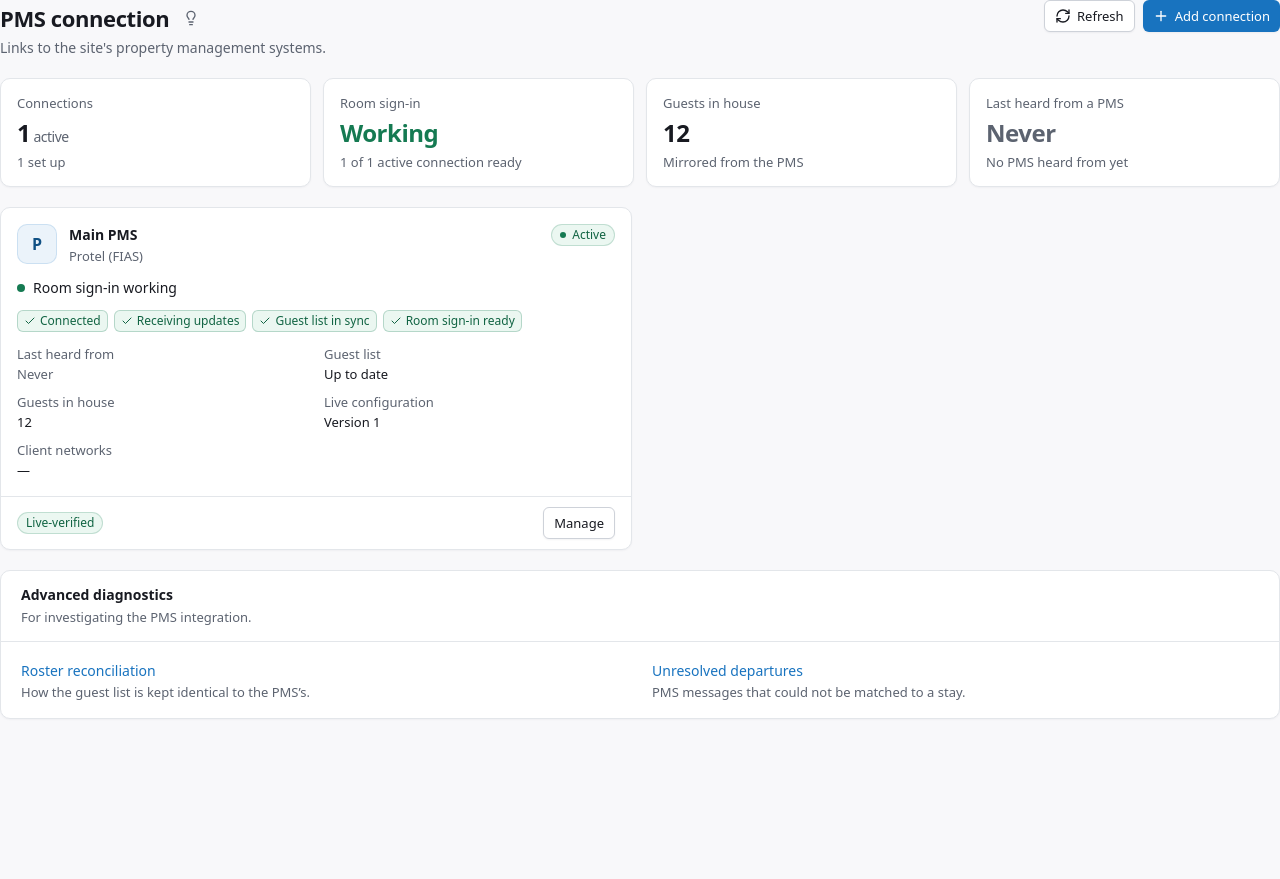
connection recovery is scoped to one interface › says when nobody has configured this connection, without pretending it is unset
The image size is (1280, 879).
Expected: the heading "Main PMS" is shown, x1=69 y1=225 x2=138 y2=245
Click the button "Manage": (579, 523) x1=543 y1=507 x2=615 y2=539
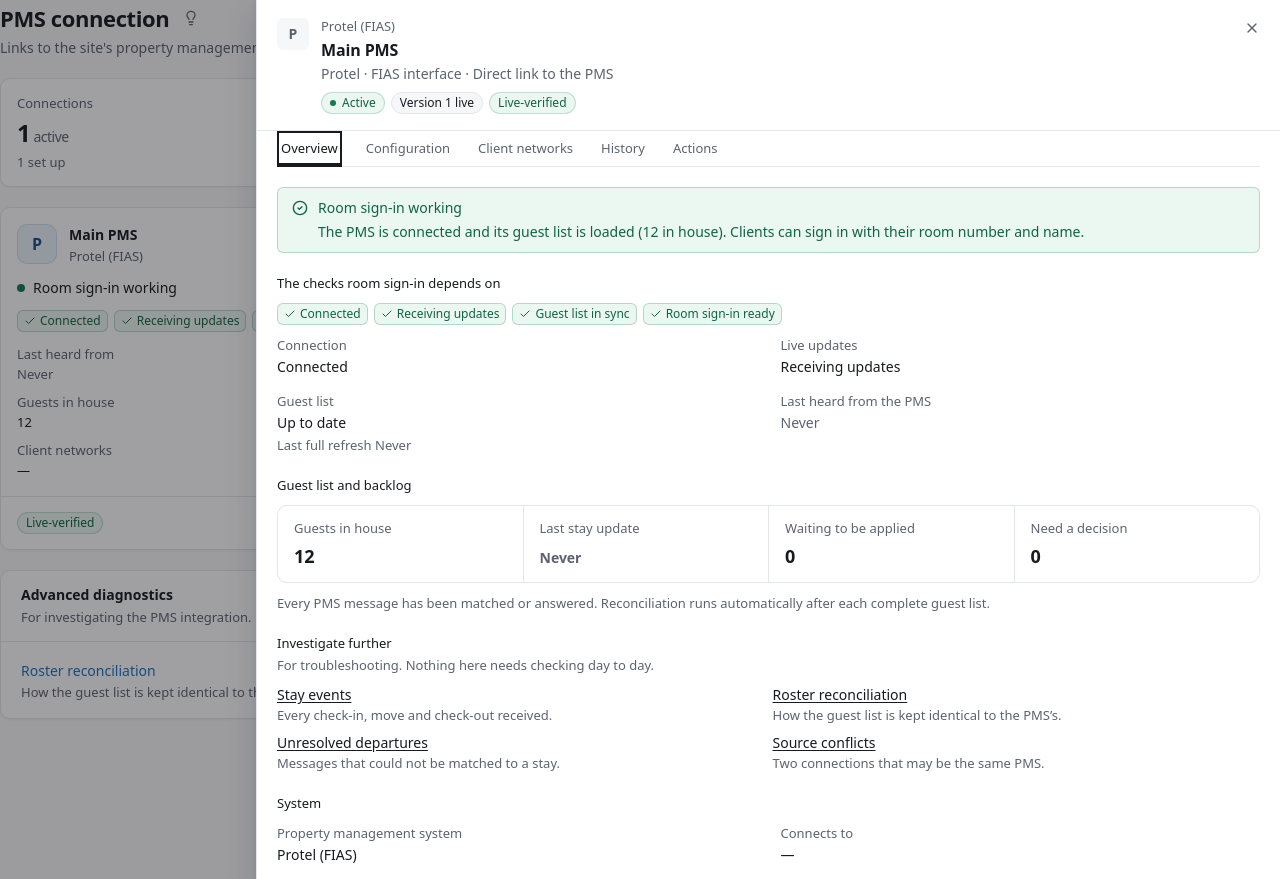
Click the tab "Configuration": (408, 149) x1=362 y1=131 x2=454 y2=167
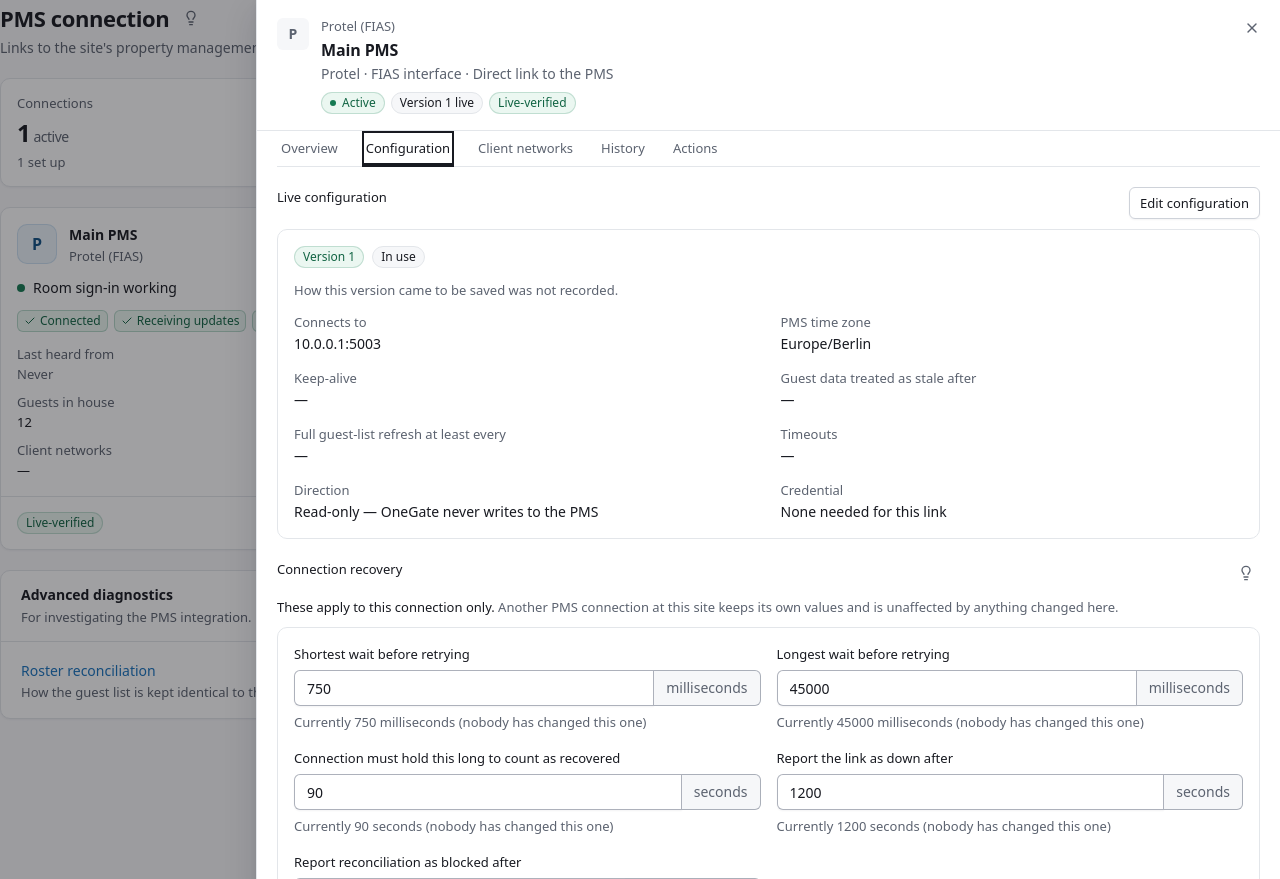
Expected: the heading "Connection recovery" is shown, x1=277 y1=559 x2=402 y2=579
Expected: the text "Currently 750 milliseconds (nobody has changed this one)" is shown 5 times
